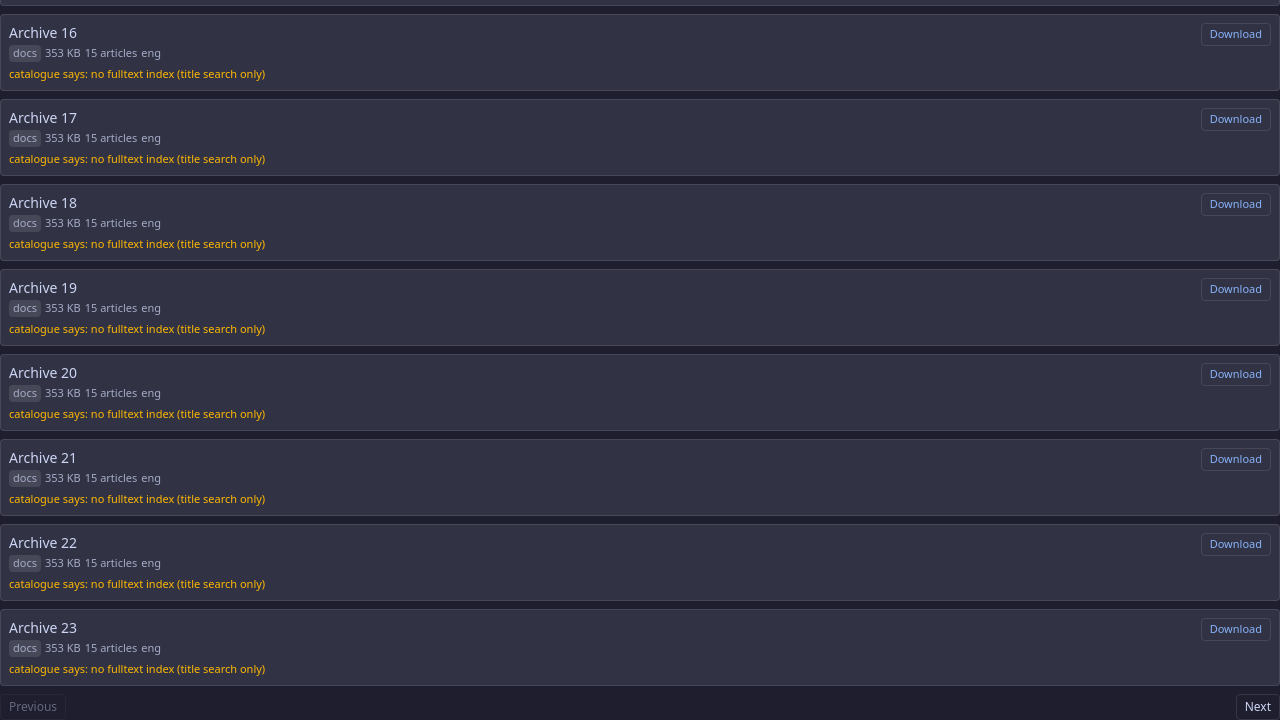
Test: browses beyond the first page and returns to the previous page
(page scrolled)
Expected: the button "Previous" is disabled, [0,694,66,719]
Click the button "Next": (1258, 707) [1236,694,1279,719]
(page scrolled)
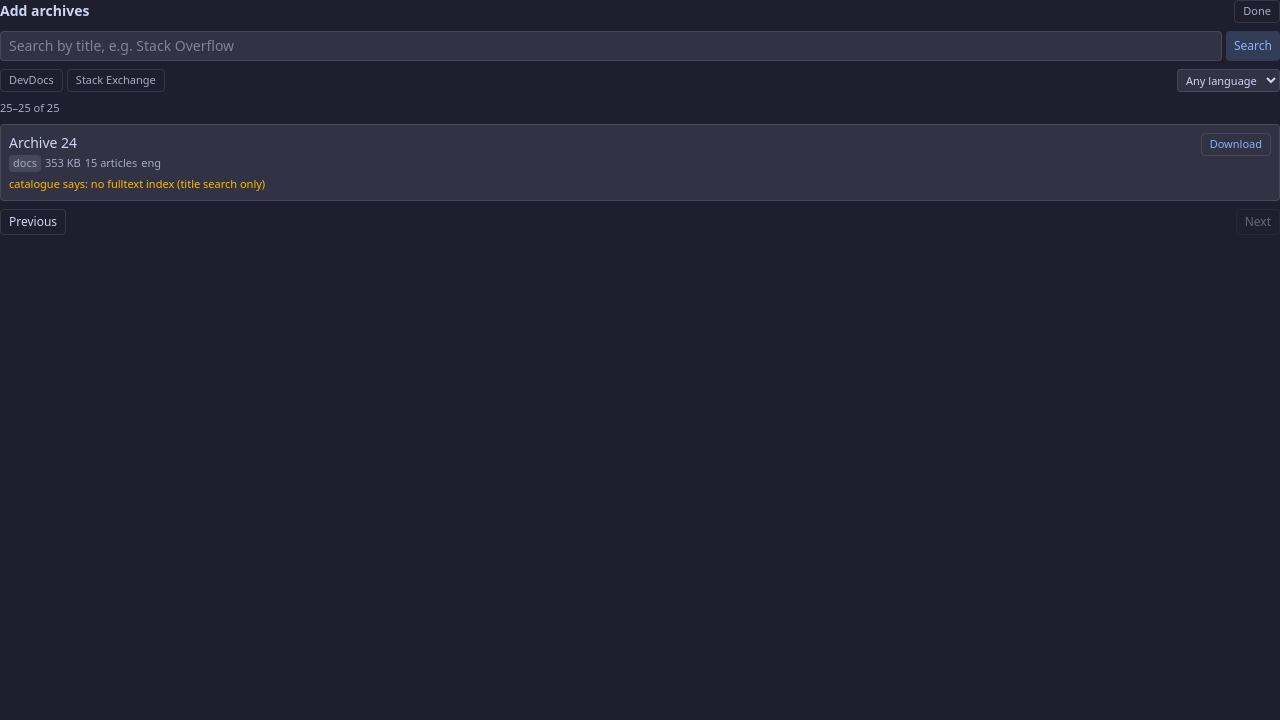
Result: the text "25–25 of 25" is shown at [0,100,60,114]
Result: the text "Archive 24" is shown at [9,133,77,152]
Result: the button "Next" is disabled at [1236,209,1279,235]
Click the button "Previous": (33, 222) [0,209,66,235]
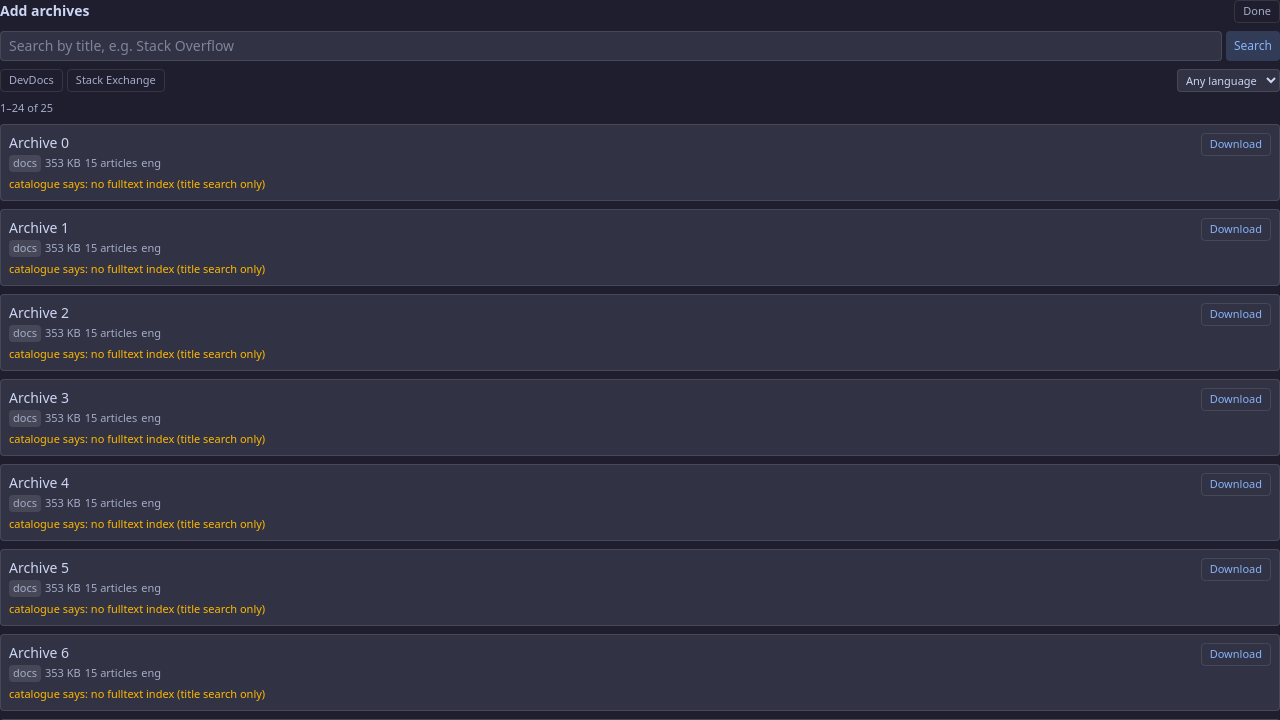
Result: the text "1–24 of 25" is shown at [0,100,53,114]
